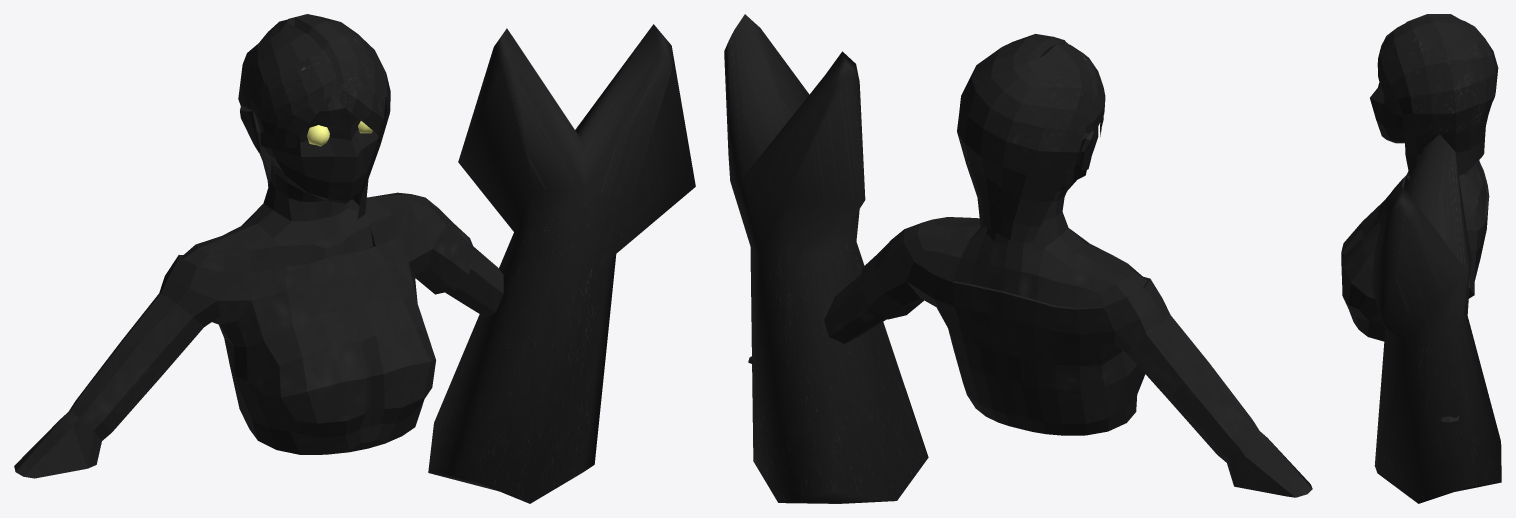
Rendered from mermaid.fbx.
The picture shows the model from 3 angles, left to right: view 1: azimuth 30°, elevation 25°; view 2: azimuth 150°, elevation 25°; view 3: azimuth 270°, elevation 25°; orthographic projection. The views are drawn at different scales.
Parts seen in each view (by area): view 1: polySurface6, pCube16; view 2: polySurface6, pCube16; view 3: pCube16, polySurface6.
Part boxes in pixels (x1=…): polySurface6: x1=14, y1=14, x2=503, y2=478; pCube16: x1=428, y1=24, x2=695, y2=503; polySurface6: x1=748, y1=34, x2=1312, y2=497; pCube16: x1=724, y1=14, x2=928, y2=503; pCube16: x1=1371, y1=134, x2=1501, y2=503; polySurface6: x1=1341, y1=14, x2=1498, y2=422.
Bounding box in the file's own units: 90.93 × 71.2 × 25.77.
